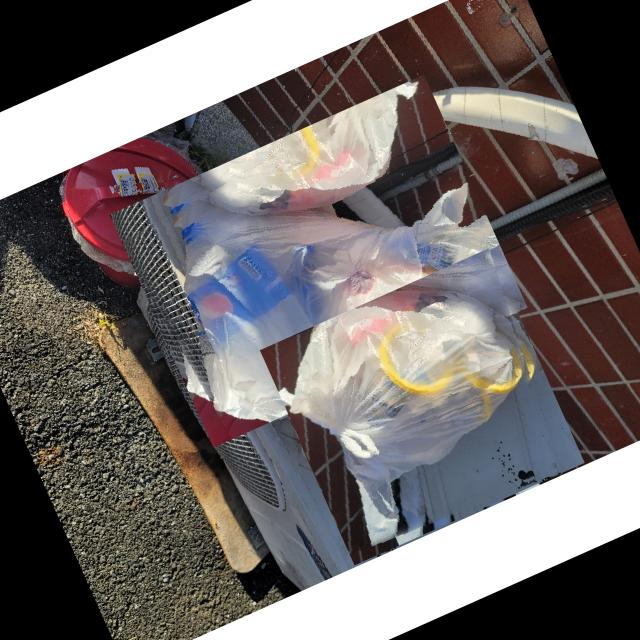other_trashbag: (172, 186, 511, 422), (279, 293, 525, 547)
